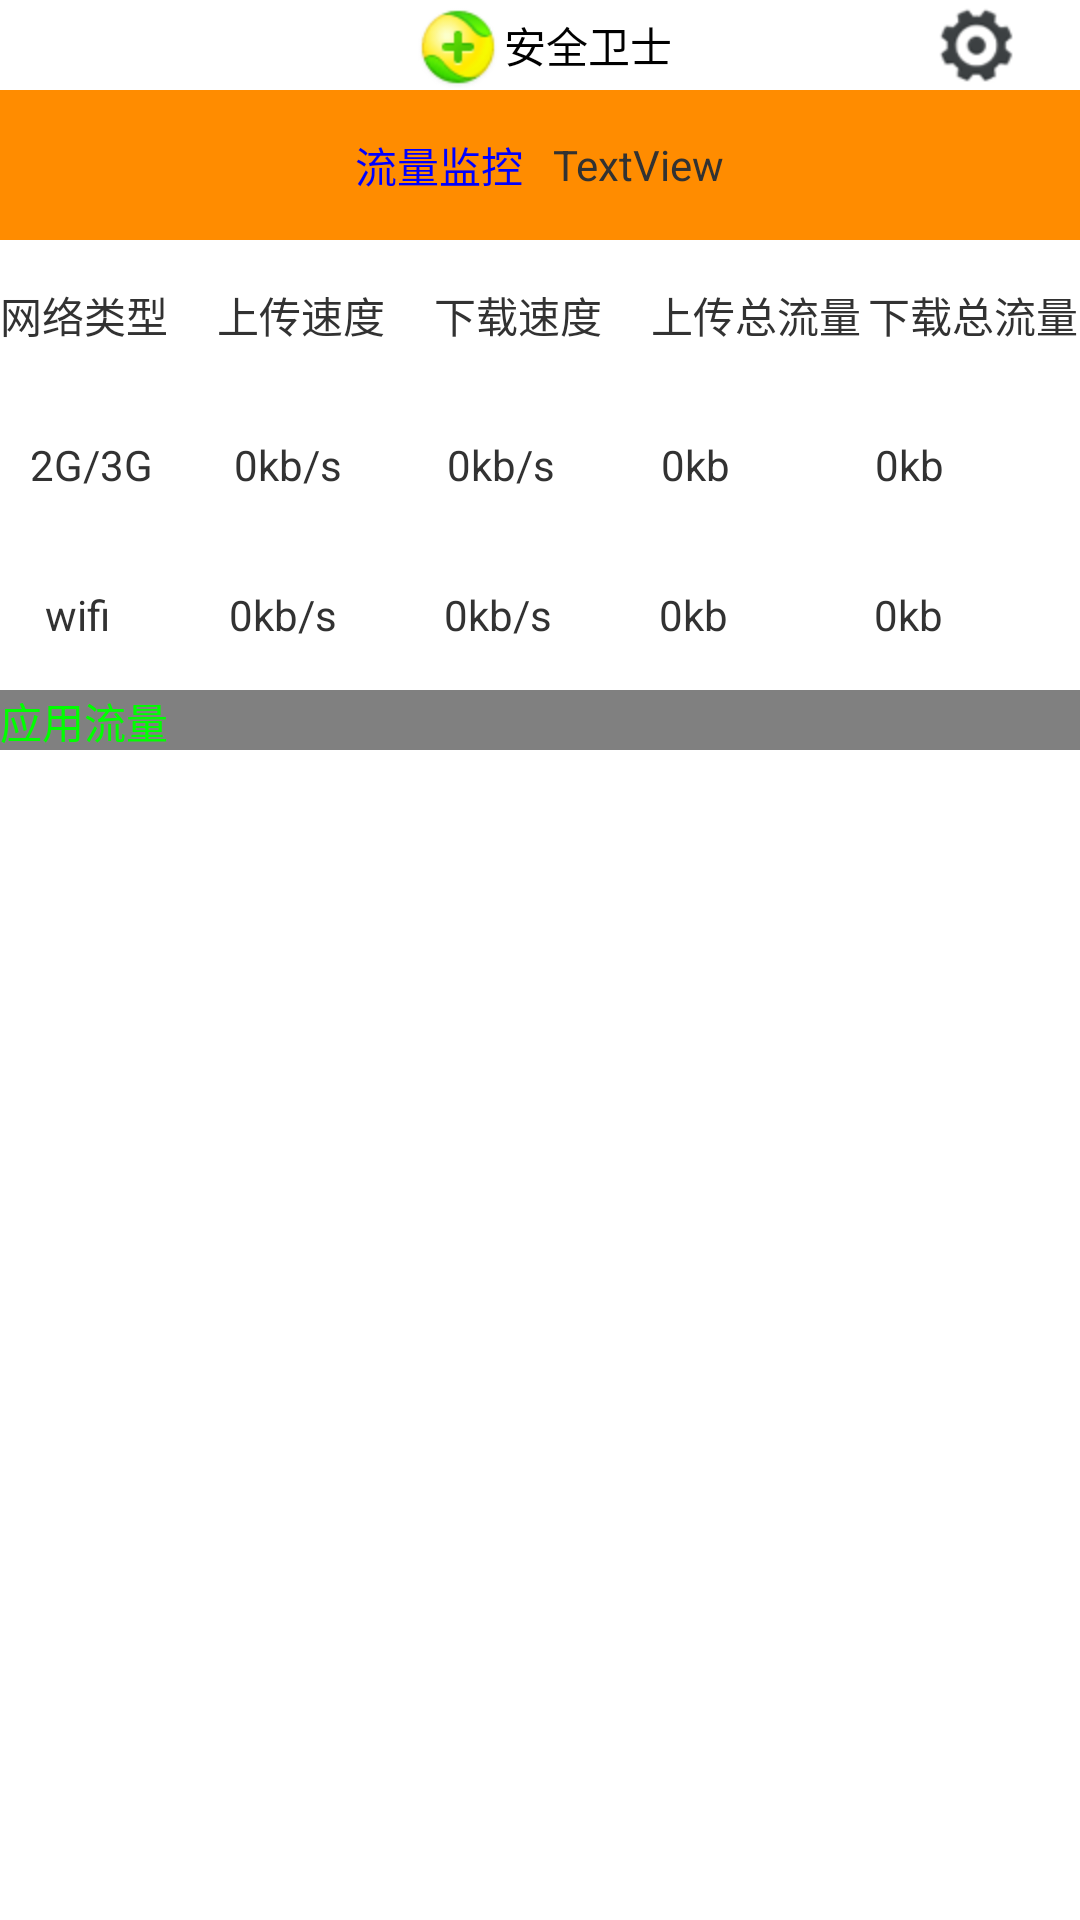

Icons on this 1080 × 1920 Android screen, each with its box as (x1, y1, x2, y2):
setting: (940, 9, 1013, 82)
